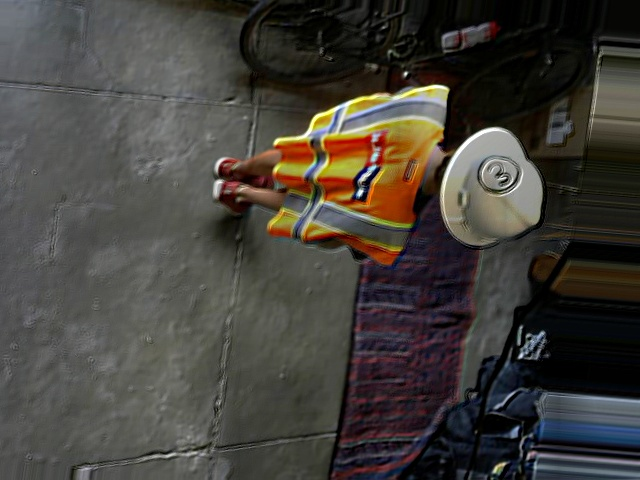three: (475, 155, 523, 195)
